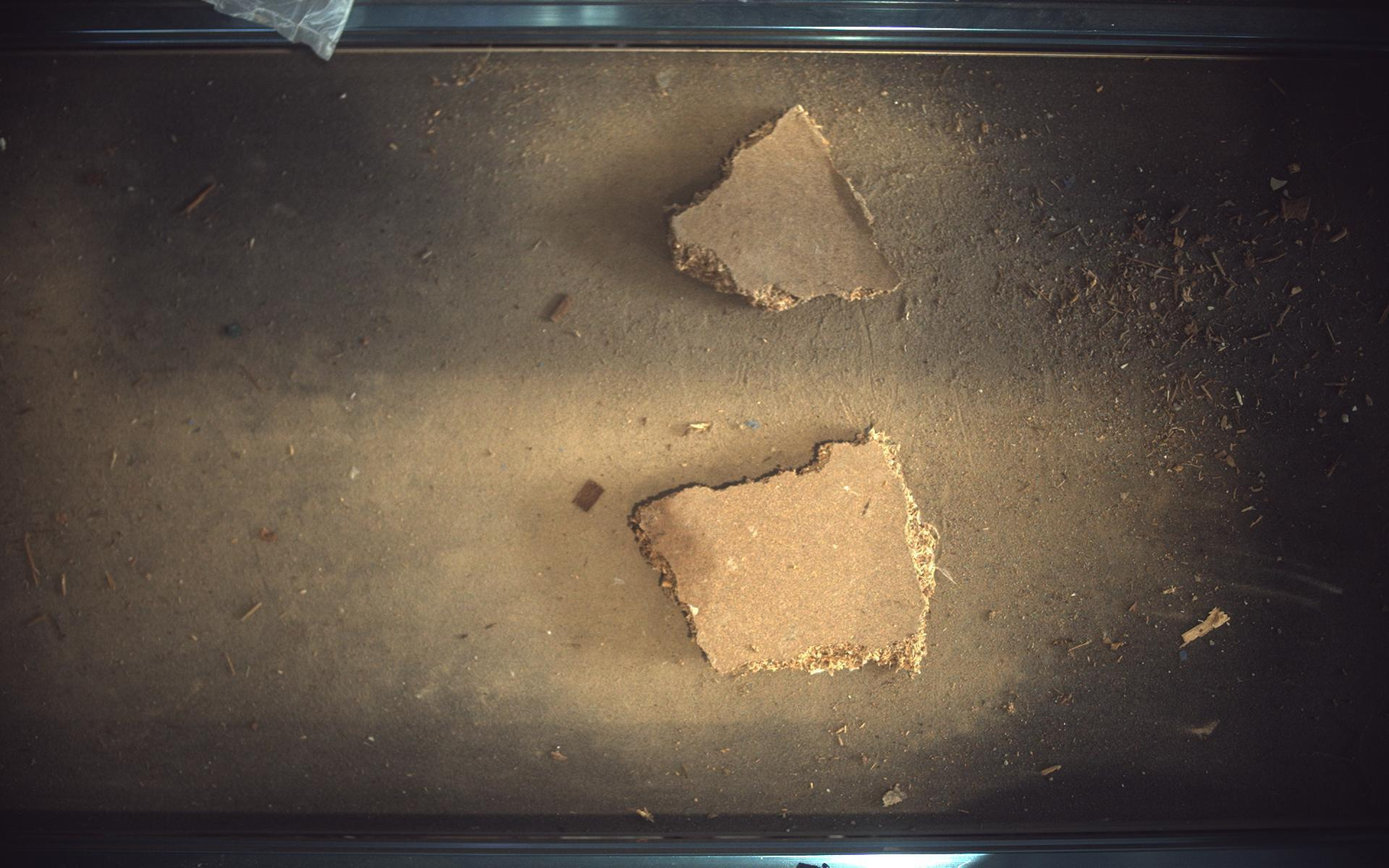wood: (631, 430, 938, 676), (669, 104, 902, 310)
